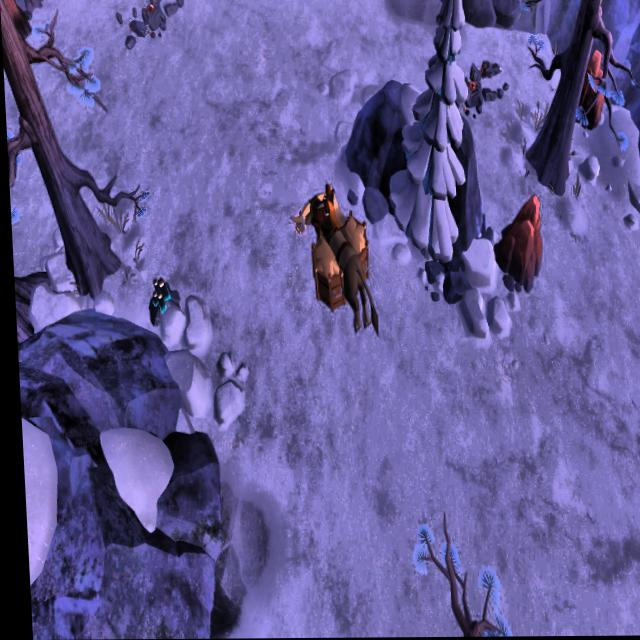ore_t4: (147, 277, 168, 315)
rock_t5: (490, 193, 543, 289), (570, 51, 609, 137)
